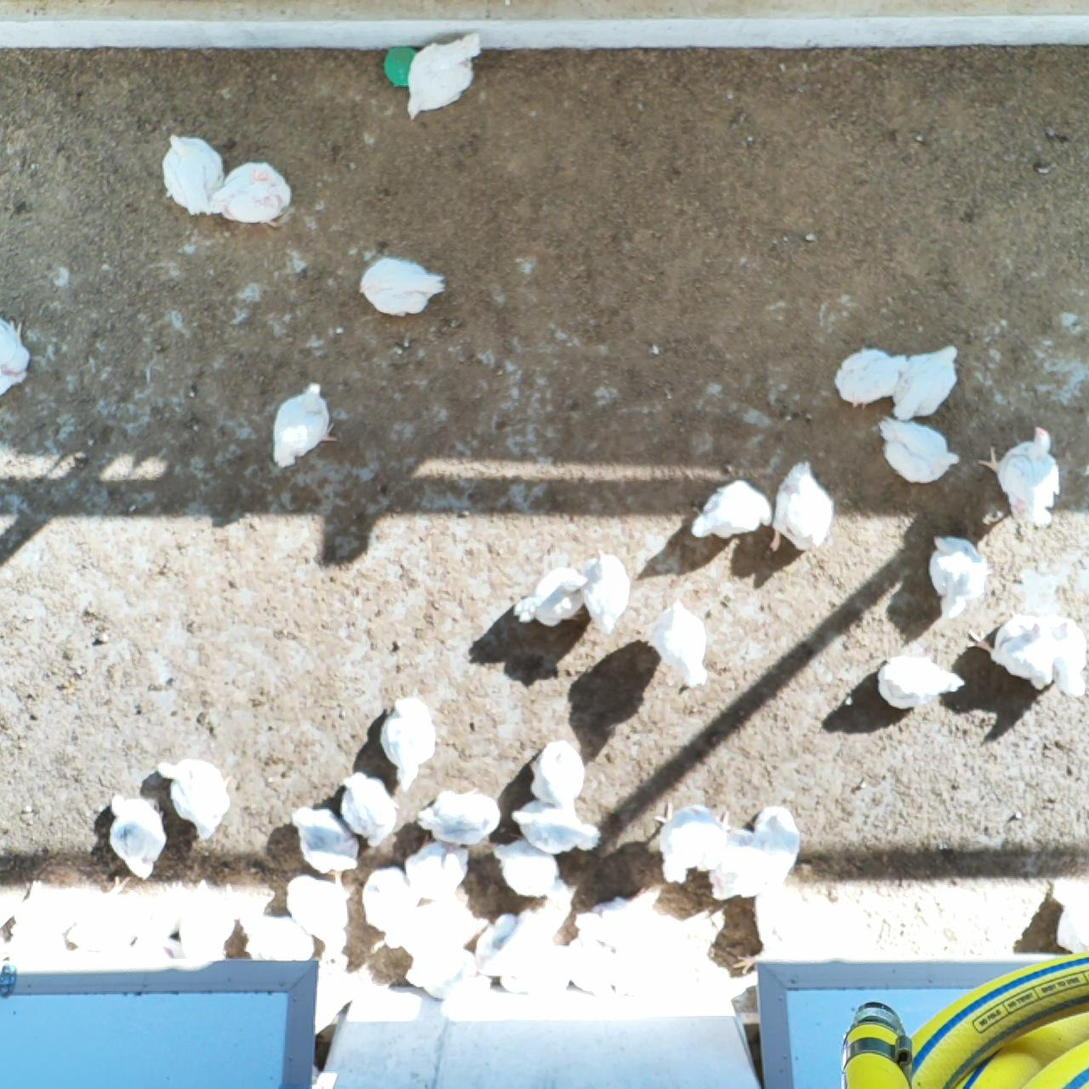chicken: (976, 420, 1068, 531), (732, 871, 816, 978), (401, 28, 484, 129), (962, 603, 1055, 692), (571, 881, 676, 958), (226, 881, 319, 962), (282, 864, 358, 961), (154, 753, 234, 845), (768, 459, 840, 560), (373, 692, 443, 795), (651, 795, 731, 885), (269, 378, 343, 473), (871, 414, 963, 490), (471, 907, 565, 981), (353, 251, 451, 321), (646, 593, 715, 692), (870, 639, 965, 710), (158, 128, 231, 219), (683, 476, 776, 547), (287, 799, 366, 881), (104, 787, 170, 884), (925, 530, 991, 627), (654, 909, 728, 995), (208, 159, 296, 231), (66, 872, 145, 952), (7, 877, 77, 967), (507, 795, 607, 858), (889, 340, 964, 424), (487, 830, 572, 904), (410, 783, 504, 849), (508, 560, 594, 632), (703, 826, 780, 905), (398, 830, 476, 907), (575, 543, 636, 640), (390, 898, 491, 954), (834, 342, 911, 415), (357, 864, 418, 955), (336, 768, 399, 852), (402, 943, 488, 1003), (567, 945, 653, 1005), (525, 732, 592, 808), (181, 879, 238, 962), (497, 939, 574, 999), (1043, 607, 1089, 700), (138, 880, 193, 956), (750, 800, 808, 865), (1046, 869, 1089, 952), (0, 312, 38, 402), (237, 1017, 246, 1020)
